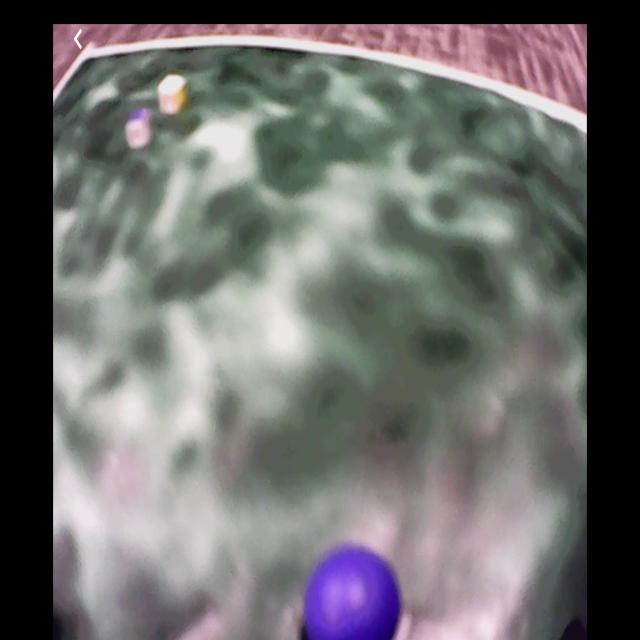ball: (303, 546, 399, 640)
